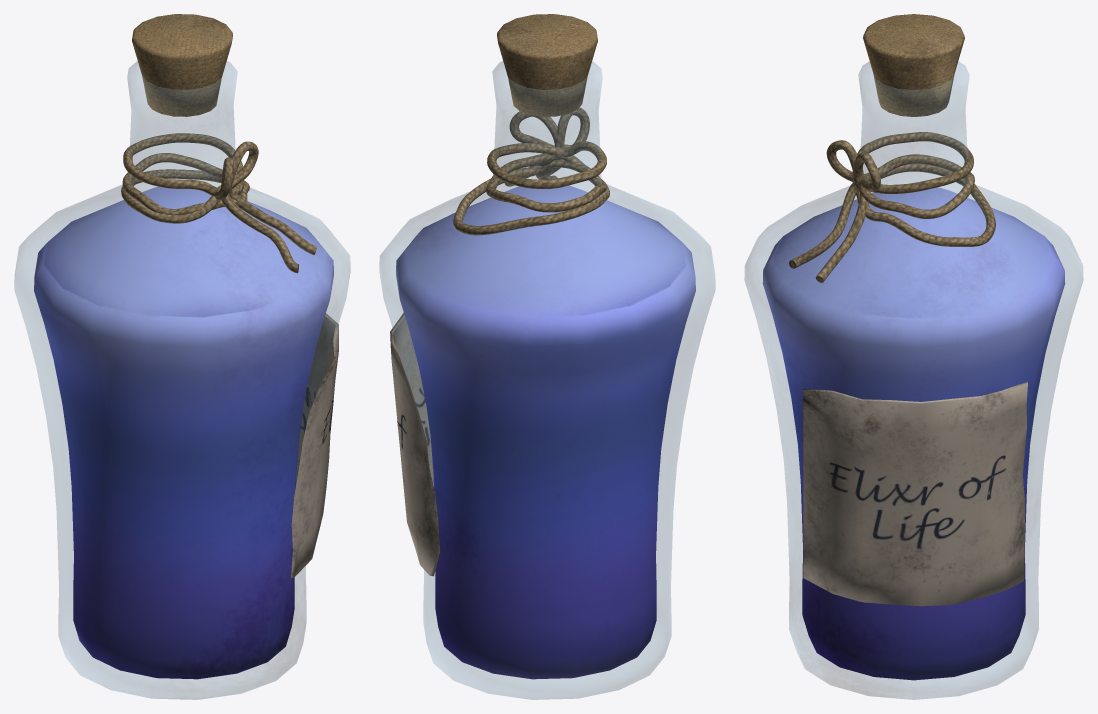
Rendered from potions_bottle.glb.
3 views of the same model, side by side, from view 1: azimuth 30°, elevation 25°; view 2: azimuth 150°, elevation 25°; view 3: azimuth 270°, elevation 25° (orthographic).
Visible parts, largest first — view 1: bottle_low, insides_low, rope_low, cork_low, label_low; view 2: bottle_low, insides_low, rope_low, cork_low, label_low; view 3: bottle_low, insides_low, label_low, rope_low, cork_low.
Part boxes in pixels (x1,y1,x2,y2): bottle_low: (14, 61, 350, 699); insides_low: (34, 186, 333, 679); rope_low: (121, 133, 317, 273); cork_low: (132, 14, 232, 116); label_low: (291, 313, 338, 577); bottle_low: (379, 61, 715, 699); insides_low: (396, 185, 695, 679); rope_low: (453, 107, 609, 235); cork_low: (497, 14, 597, 116); label_low: (390, 312, 439, 576); bottle_low: (744, 61, 1083, 699); insides_low: (762, 187, 1065, 680); label_low: (803, 381, 1027, 606); rope_low: (789, 132, 995, 282); cork_low: (863, 14, 964, 116).
Bounding box in the file's own units: 35.25 × 72.02 × 35.25.
1 material, 1 textured.
